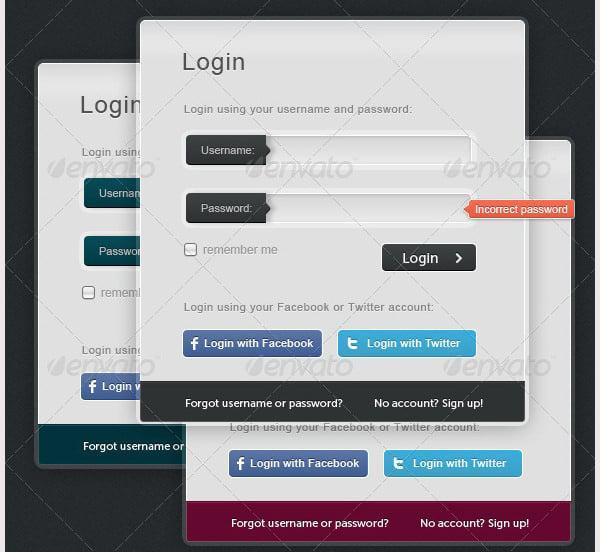button: (383, 448, 524, 481), (336, 329, 478, 361), (185, 329, 325, 360), (230, 448, 369, 478), (383, 245, 478, 274)
checkbox: (182, 242, 200, 260), (83, 285, 98, 301)
input: (269, 192, 471, 225), (267, 140, 473, 164)
